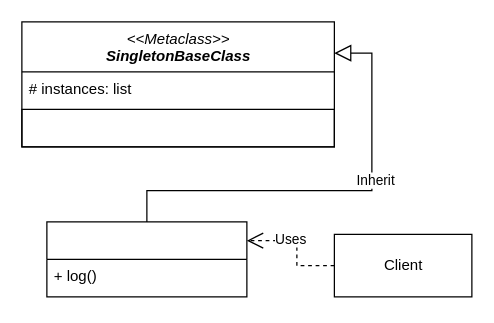
This 494x323 diagram has some shape labels left out. Each missing label, with the box of its shape:
# __call__(cls, *args, **kwargs): cls instance: (21, 108, 334, 147)
CustomLogger: (46, 221, 247, 297)
